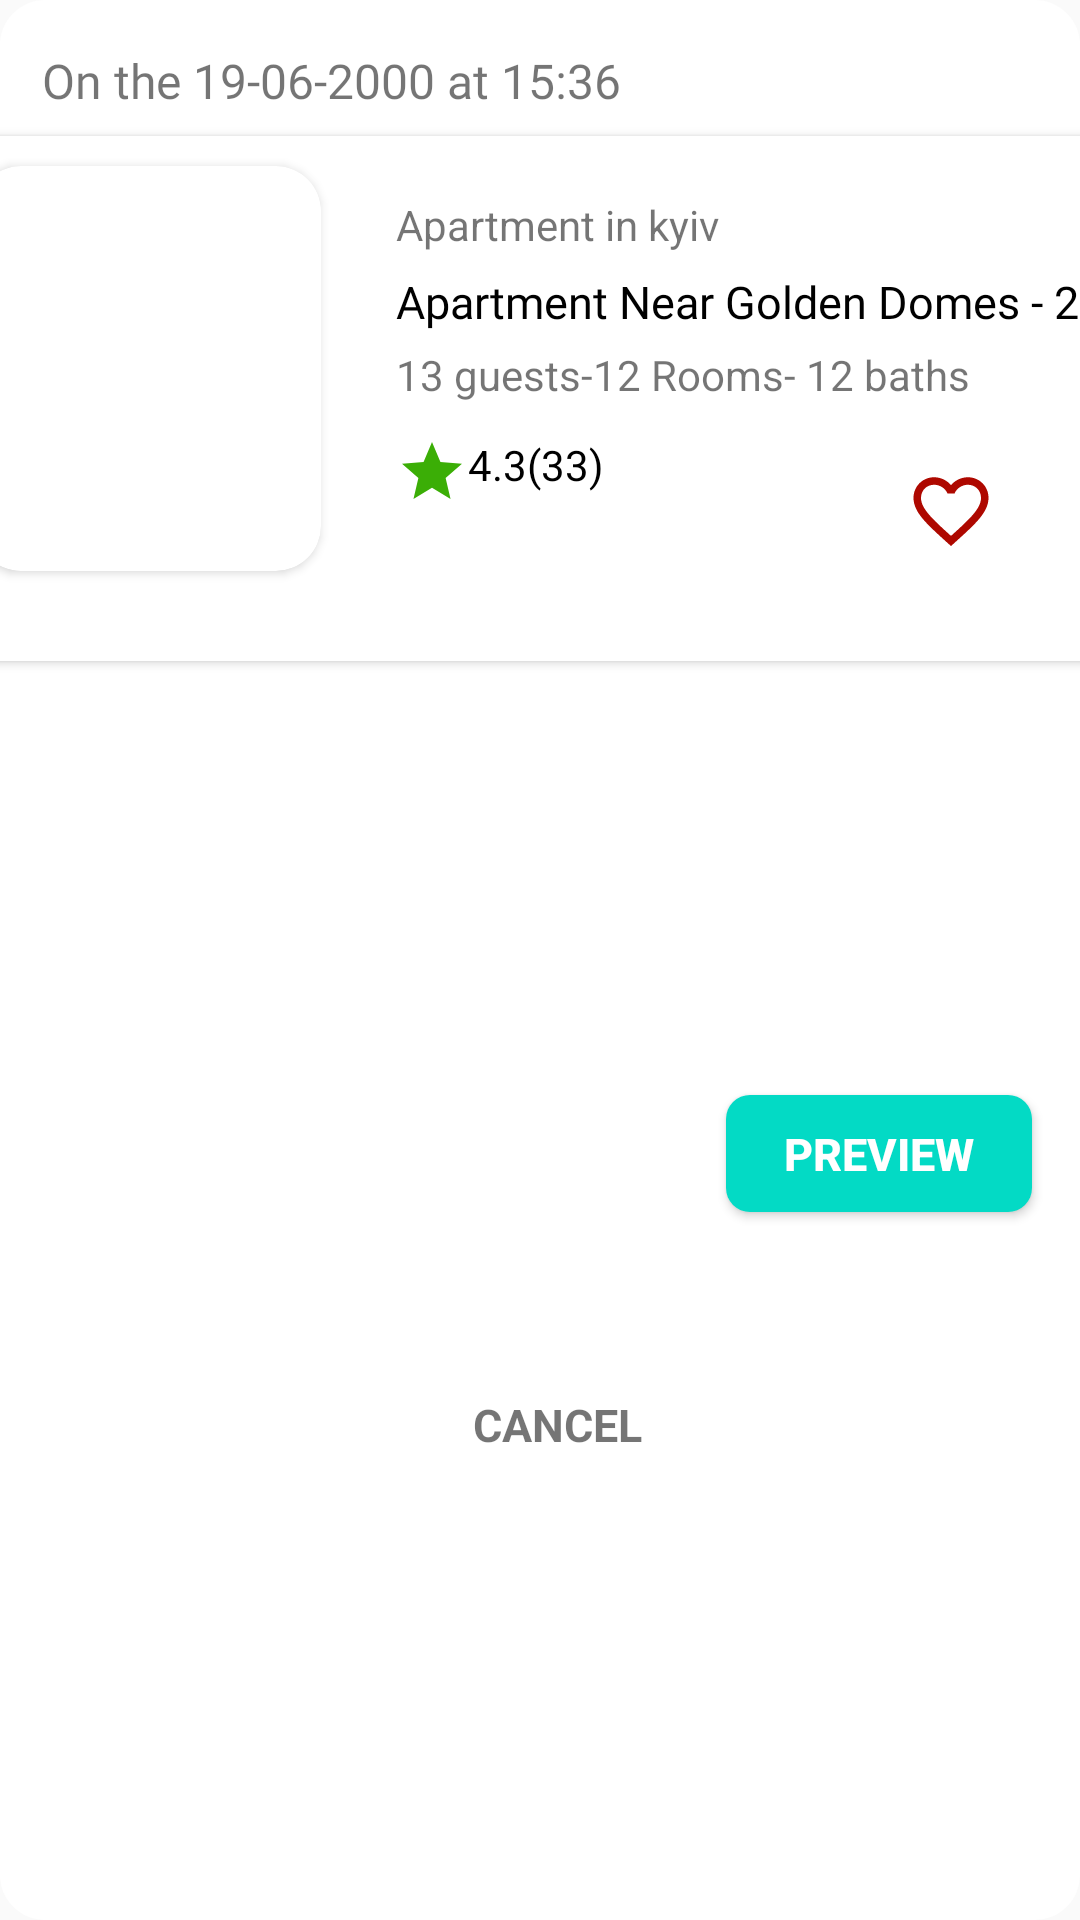

Where icons sit on this 1080w x 1920h app screen, as (x1, y1, x2, y2):
favorite border: (913, 477, 989, 546)
